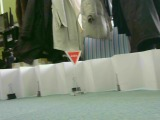stop: (63, 50, 82, 66)
